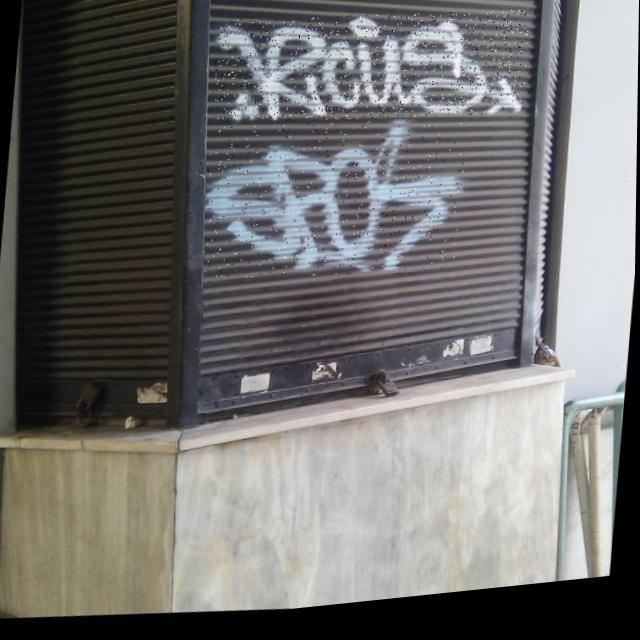-: (200, 110, 468, 302), (210, 0, 530, 150)
